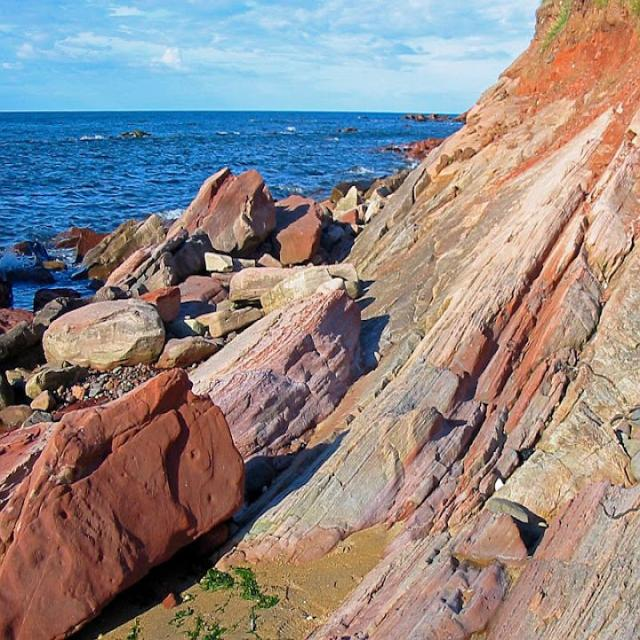Sedimentary: (350, 174, 640, 638), (3, 346, 238, 639), (159, 259, 360, 486), (170, 162, 352, 262), (40, 289, 172, 377)
